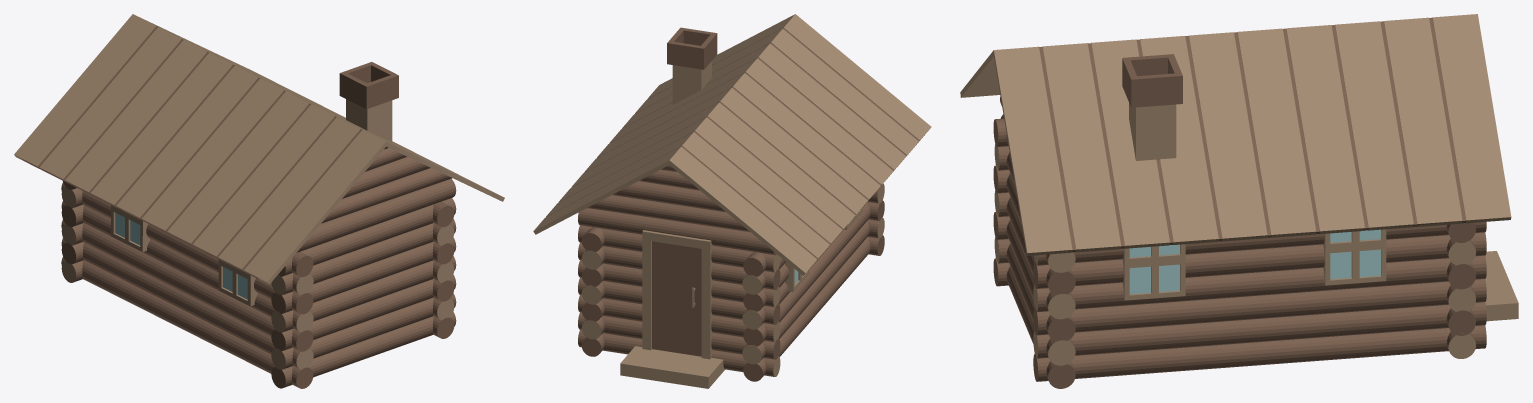
The model's file is house.glb.
3 views of the same model, side by side, from view 1: azimuth 30°, elevation 25°; view 2: azimuth 150°, elevation 25°; view 3: azimuth 270°, elevation 25° (orthographic). The views are drawn at different scales.
Visible parts, largest first — view 1: Box038, Cylinder039, Object005; view 2: Box038, Cylinder039; view 3: Box038, Cylinder039, Object005.
Part boxes in pixels (bbox=[...]): Box038: bbox=[14, 14, 504, 369]; Cylinder039: bbox=[22, 26, 456, 388]; Object005: bbox=[115, 213, 247, 299]; Box038: bbox=[533, 14, 931, 388]; Cylinder039: bbox=[549, 27, 924, 381]; Box038: bbox=[960, 14, 1518, 365]; Cylinder039: bbox=[993, 17, 1486, 388]; Object005: bbox=[1129, 229, 1380, 294].
Bounding box in the file's own units: 7.14 × 5 × 8.56.
